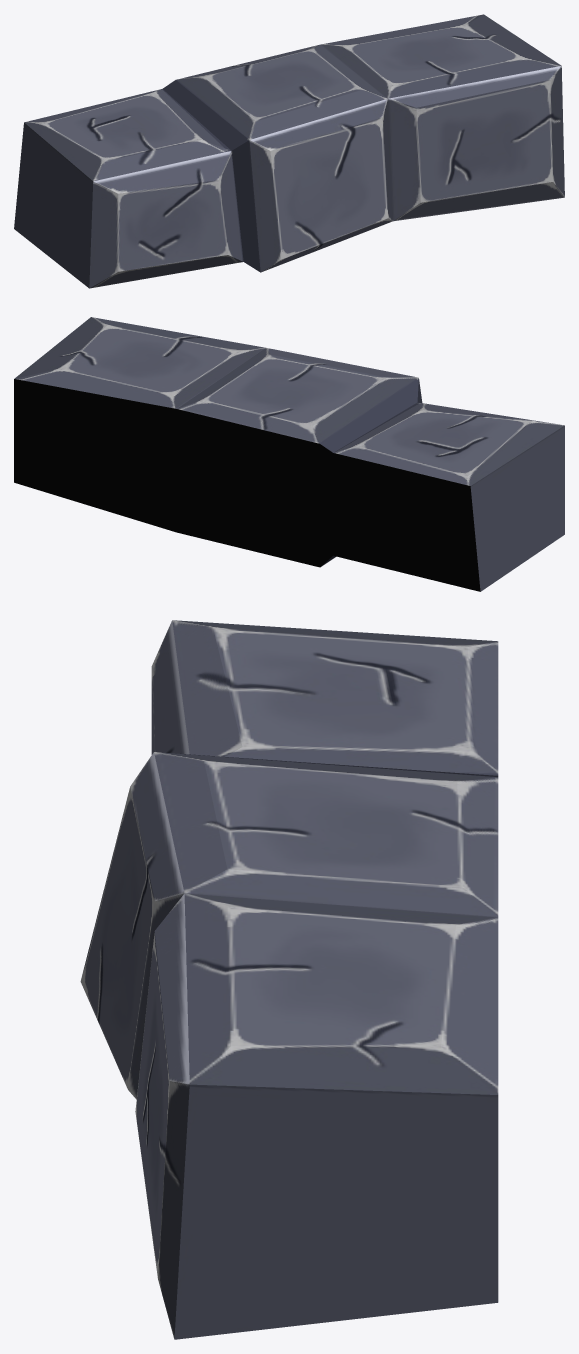
File: Half Wall.FBX
The picture shows the model from 3 angles, top to bottom: view 1: azimuth 30°, elevation 25°; view 2: azimuth 150°, elevation 25°; view 3: azimuth 270°, elevation 25°; orthographic projection. The views are drawn at different scales.
Parts seen in each view (by area): view 1: Object004; view 2: Object004; view 3: Object004.
Boxes of the visible parts, box(x1,y1,x2,y2) form: Object004: box(14, 14, 564, 288); Object004: box(14, 317, 564, 591); Object004: box(80, 620, 498, 1339).
Size of the model in its own units: 348 by 101 by 134.
